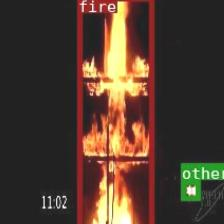fire: (76, 0, 154, 224)
